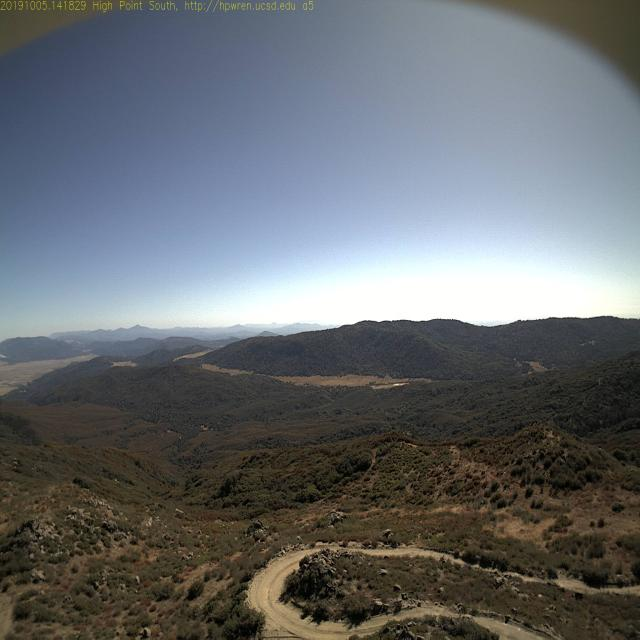smoke: (0, 347, 12, 360)
